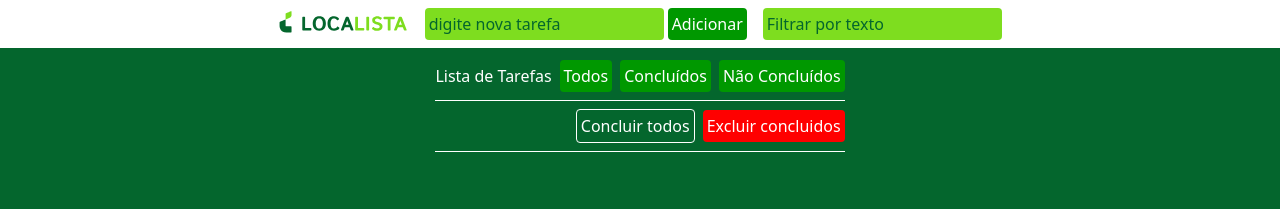
Scenario: Add new task
Type "Nova tarefa" into the field with placeholder "digite nova tarefa" at (544, 24), box [425,8,664,40]
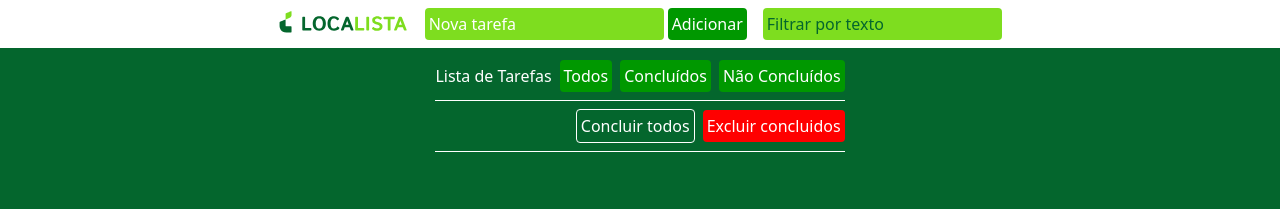
Click the button "Adicionar" at (707, 24), box [668,8,747,40]
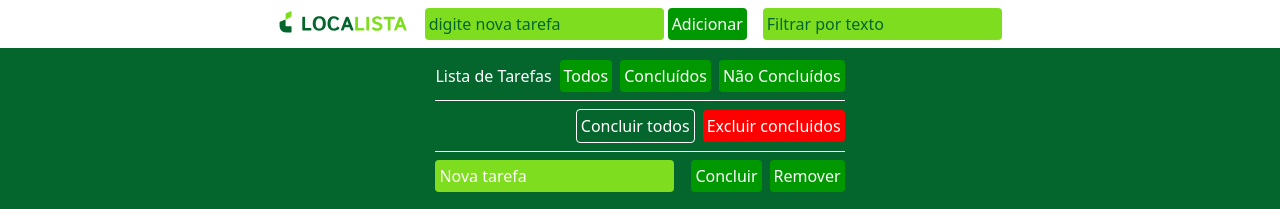
Check: the field showing "Nova tarefa" is shown, box [435,160,674,192]
